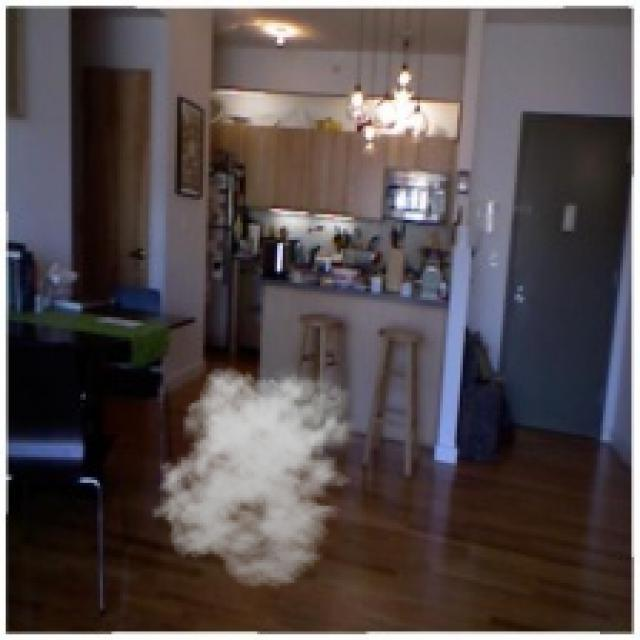Smoke: (152, 361, 366, 588)
